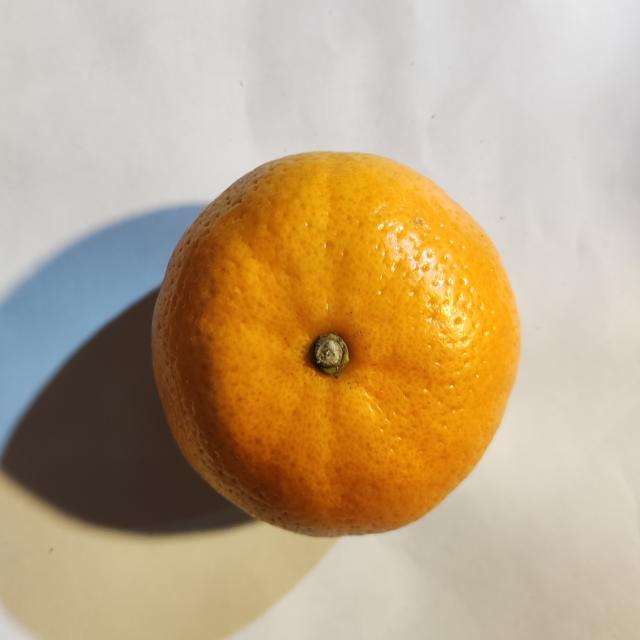orange: (153, 153, 519, 535)
